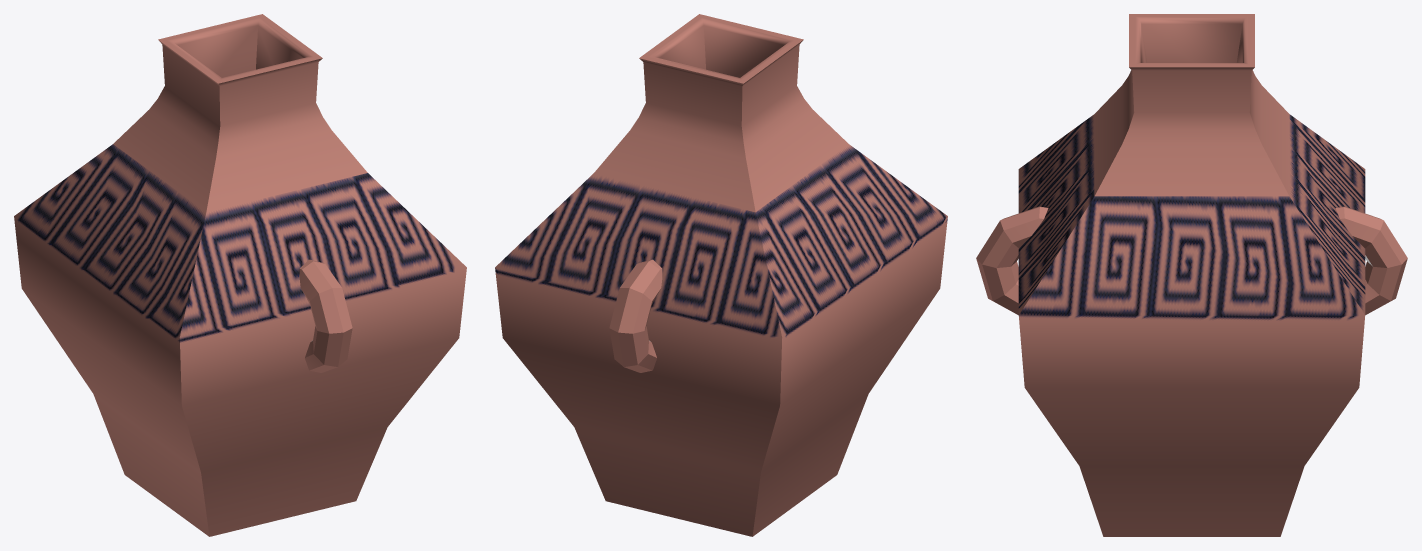
File: Pot2B.glb
3 renders of one model, left to right at view 1: azimuth 30°, elevation 25°; view 2: azimuth 150°, elevation 25°; view 3: azimuth 270°, elevation 25°, orthographic. The views are drawn at different scales.
Visible parts, largest first — view 1: Pot2LowRes; view 2: Pot2LowRes; view 3: Pot2LowRes.
Boxes of the visible parts, x1,y1,x2,y2 form: Pot2LowRes: [14, 14, 466, 536]; Pot2LowRes: [495, 14, 947, 536]; Pot2LowRes: [976, 14, 1407, 536].
Size of the model in its own units: 0.9853 by 1.46 by 1.23.
2 materials, 1 textured.
